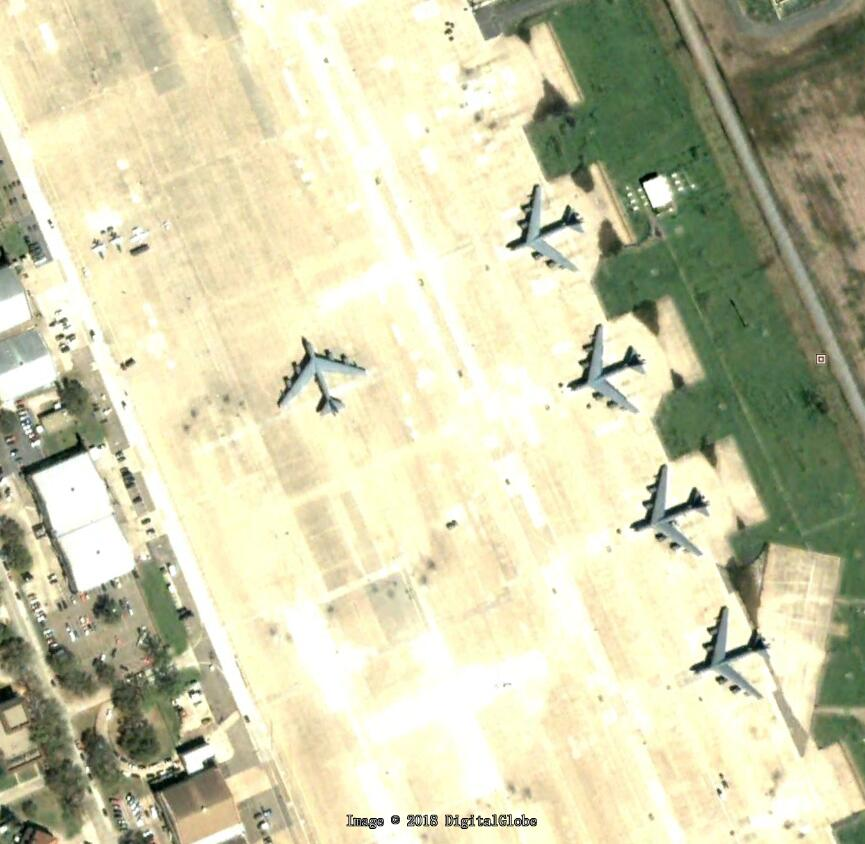A8: (270, 329, 367, 423), (500, 180, 592, 276), (566, 317, 649, 422), (627, 461, 712, 561), (690, 606, 776, 704)
